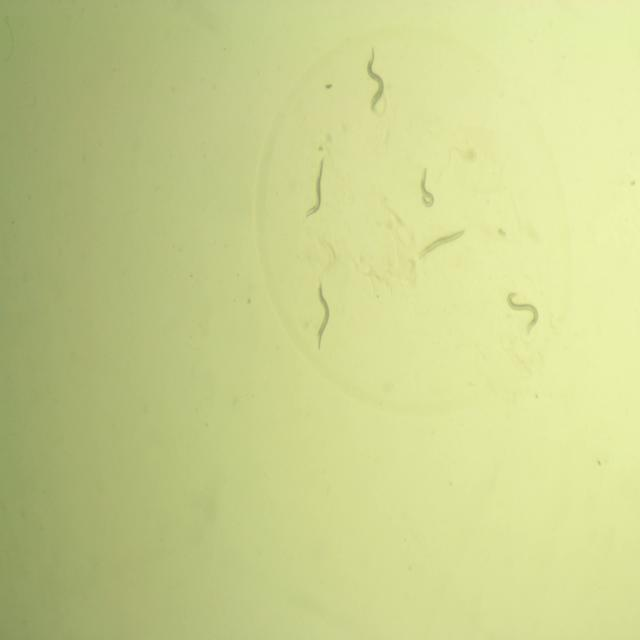worm: (414, 219, 470, 262), (360, 44, 390, 114), (504, 288, 543, 337), (302, 153, 328, 225), (309, 277, 331, 355), (415, 165, 439, 211)
